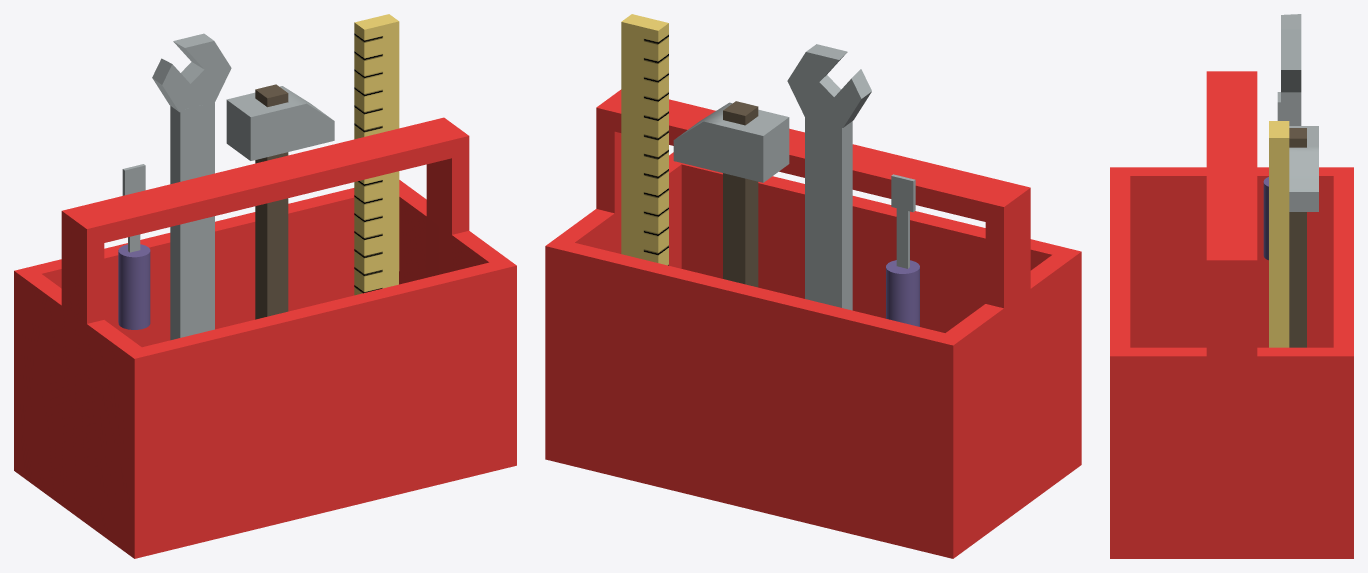
The model's file is toolbox.gltf.
3 views of the same model, side by side, from view 1: azimuth 30°, elevation 25°; view 2: azimuth 150°, elevation 25°; view 3: azimuth 270°, elevation 25° (orthographic). The views are drawn at different scales.
Parts seen in each view (by area): view 1: toolbox, wrench, ruler, hammer_head, hammer_handle.001, screwdriver; view 2: toolbox, wrench, ruler, hammer_head, hammer_handle.001, screwdriver; view 3: toolbox, ruler, hammer_handle.001, wrench, hammer_head, screwdriver.
Part boxes in pixels (x1=…): toolbox: x1=14, y1=117, x2=516, y2=558; wrench: x1=152, y1=33, x2=231, y2=340; ruler: x1=354, y1=14, x2=399, y2=295; hammer_head: x1=226, y1=86, x2=334, y2=160; hammer_handle.001: x1=255, y1=84, x2=288, y2=319; screwdriver: x1=118, y1=164, x2=150, y2=329; toolbox: x1=545, y1=89, x2=1081, y2=558; wrench: x1=787, y1=44, x2=871, y2=310; ruler: x1=621, y1=14, x2=668, y2=265; hammer_head: x1=673, y1=102, x2=789, y2=182; hammer_handle.001: x1=723, y1=101, x2=758, y2=287; screwdriver: x1=886, y1=174, x2=919, y2=326; toolbox: x1=1110, y1=71, x2=1353, y2=558; ruler: x1=1269, y1=121, x2=1289, y2=347; hammer_handle.001: x1=1289, y1=128, x2=1306, y2=347; wrench: x1=1281, y1=14, x2=1301, y2=125; hammer_head: x1=1289, y1=126, x2=1318, y2=211; screwdriver: x1=1263, y1=92, x2=1280, y2=260.
Bounding box in the file's own units: 1.1 × 1.14 × 0.6.
6 materials, 2 textured.
